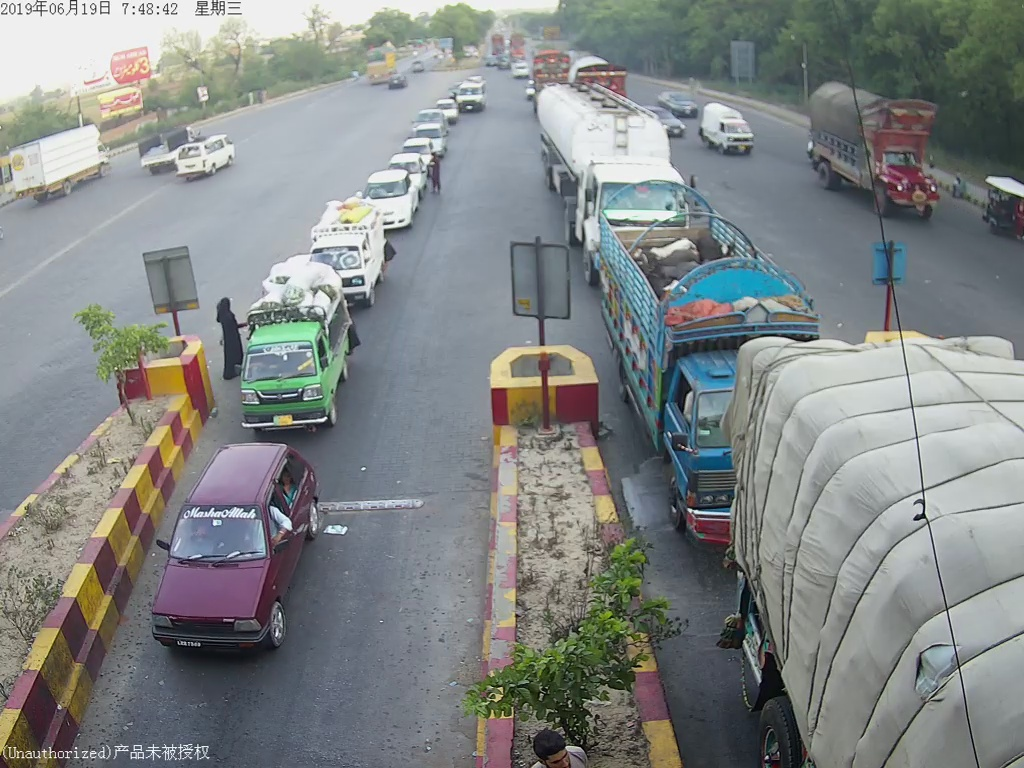Cat-1: (145, 425, 323, 654), (239, 268, 350, 427), (308, 194, 388, 312), (360, 165, 421, 232)
Cat-2: (604, 183, 816, 548)
Cat-4: (807, 70, 941, 219)
Cat-5: (535, 81, 675, 270)
